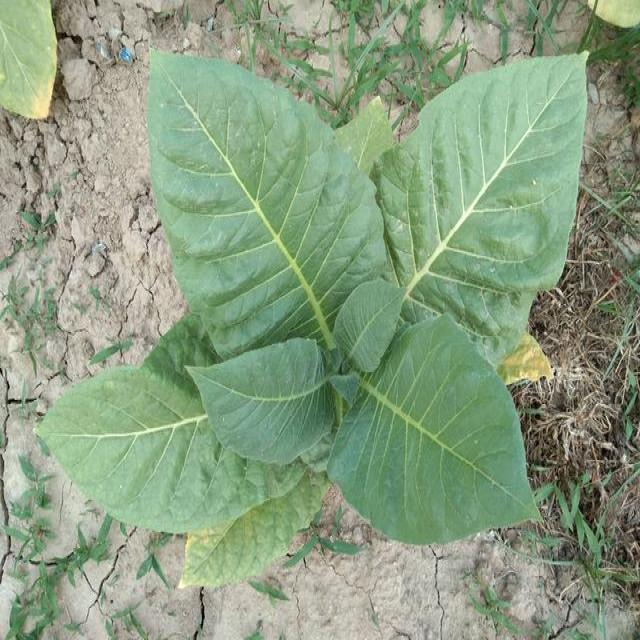crop: (69, 47, 596, 591), (6, 0, 74, 119)
